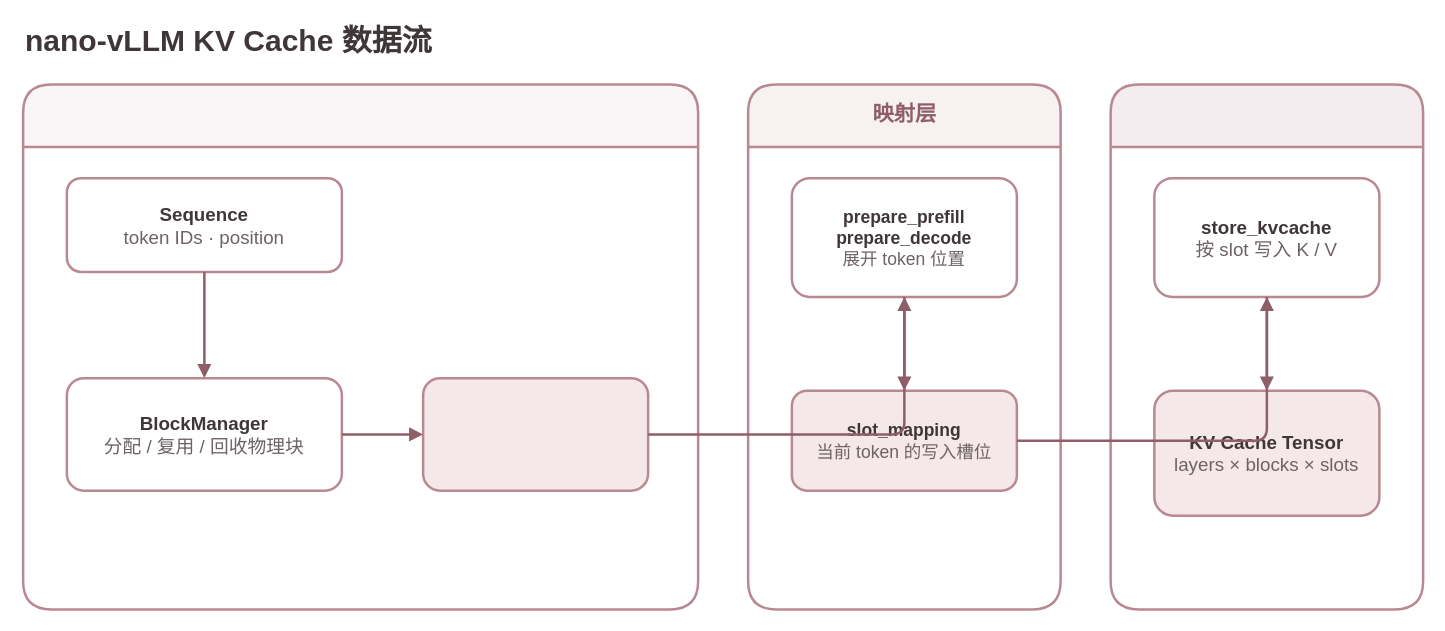
The diagram is 1445 pixels wide and 631 high, and some of its shapes have lost their labels. Here are the shapes that lost their labels. From the top down, the box of each, then its label:
(21, 82, 699, 610): 逻辑层
(1109, 82, 1424, 610): 物理层
(421, 376, 649, 491): block_table 逻辑块 → 物理块
